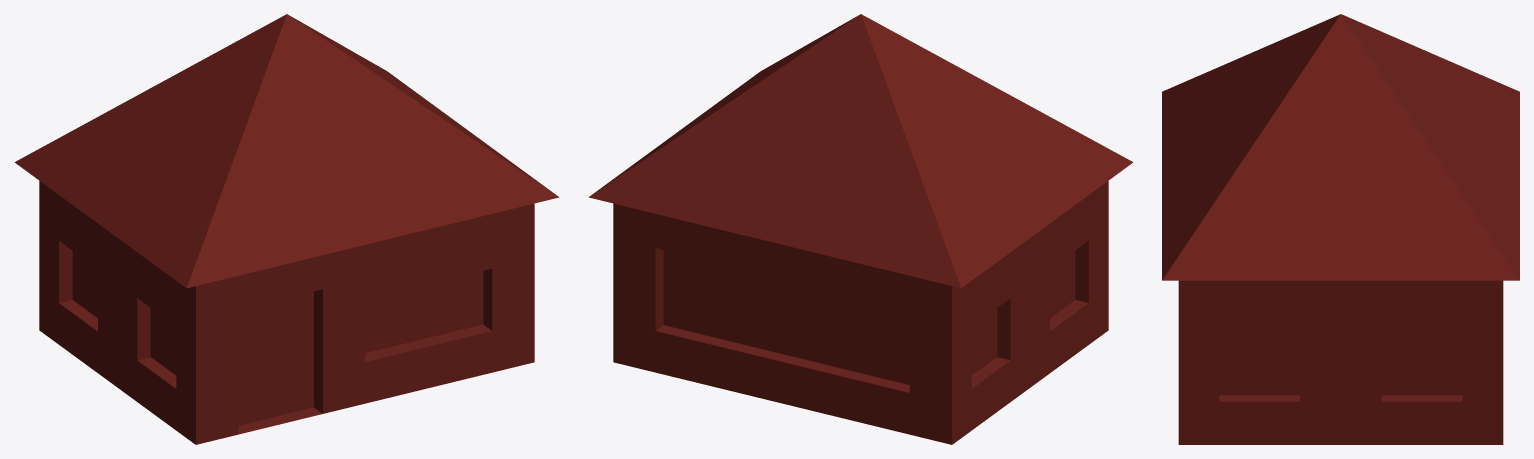
Rendered from House1.fbx.
3 renders of one model, left to right at view 1: azimuth 30°, elevation 25°; view 2: azimuth 150°, elevation 25°; view 3: azimuth 270°, elevation 25°, orthographic. The views are drawn at different scales.
Visible parts, largest first — view 1: Cube; view 2: Cube; view 3: Cube.
Part boxes in pixels (x1,y1,x2,y2): Cube: (14,14,559,444); Cube: (588,14,1133,444); Cube: (1162,14,1519,444).
Bounding box in the file's own units: 2203 × 1876 × 1762.
